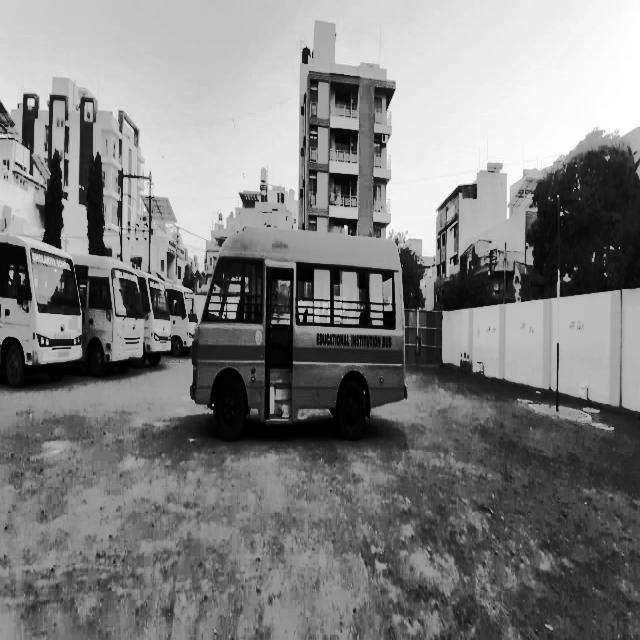Bus: (191, 222, 410, 454), (4, 234, 86, 391), (91, 253, 145, 385), (144, 270, 173, 380), (172, 279, 202, 369)
